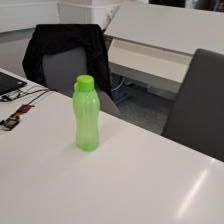bottle: (71, 75, 102, 150)
